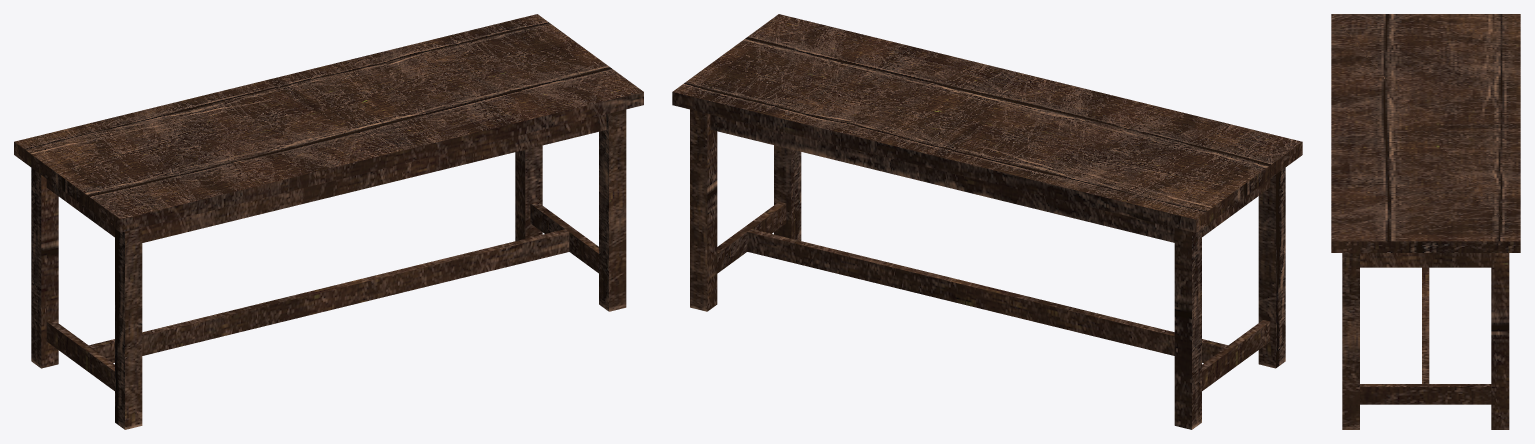
The model's file is bench.glb.
The picture shows the model from 3 angles, left to right: view 1: azimuth 30°, elevation 25°; view 2: azimuth 150°, elevation 25°; view 3: azimuth 270°, elevation 25°; orthographic projection. The views are drawn at different scales.
Visible parts, largest first — view 1: bench_painted; view 2: bench_painted; view 3: bench_painted.
Boxes of the visible parts, x1,y1,x2,y2 form: bench_painted: (14, 14, 643, 429); bench_painted: (672, 14, 1302, 429); bench_painted: (1331, 14, 1520, 429).
Bounding box in the file's own units: 1.02 × 0.4035 × 0.3576.
1 material, 1 textured.
